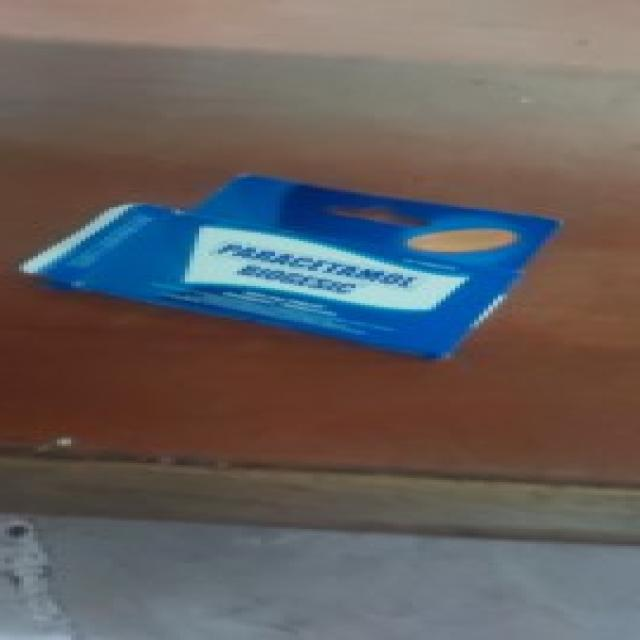Cacat: (26, 168, 566, 366)
Kemasan: (25, 198, 154, 284)
